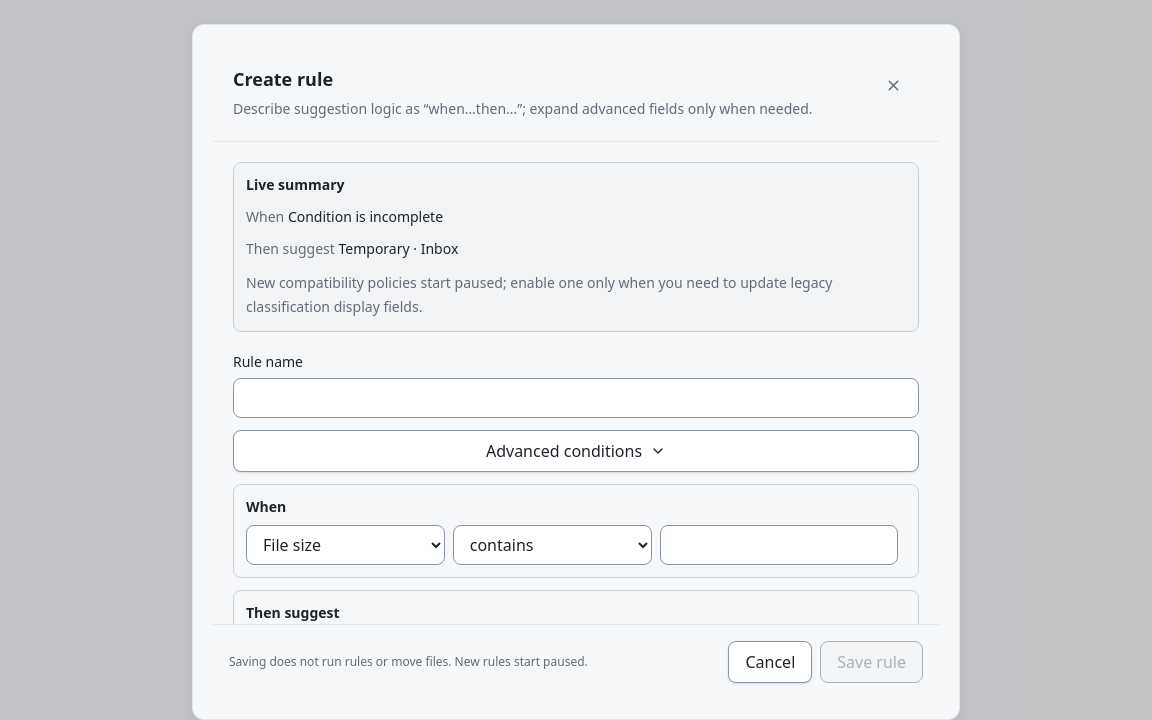
it: automation workspace behavior › uses one condition draft with a field-compatible input matrix and auto-corrected operator
Select "File size" in the dropdown named "Field": [345, 545] box [246,525,445,565]
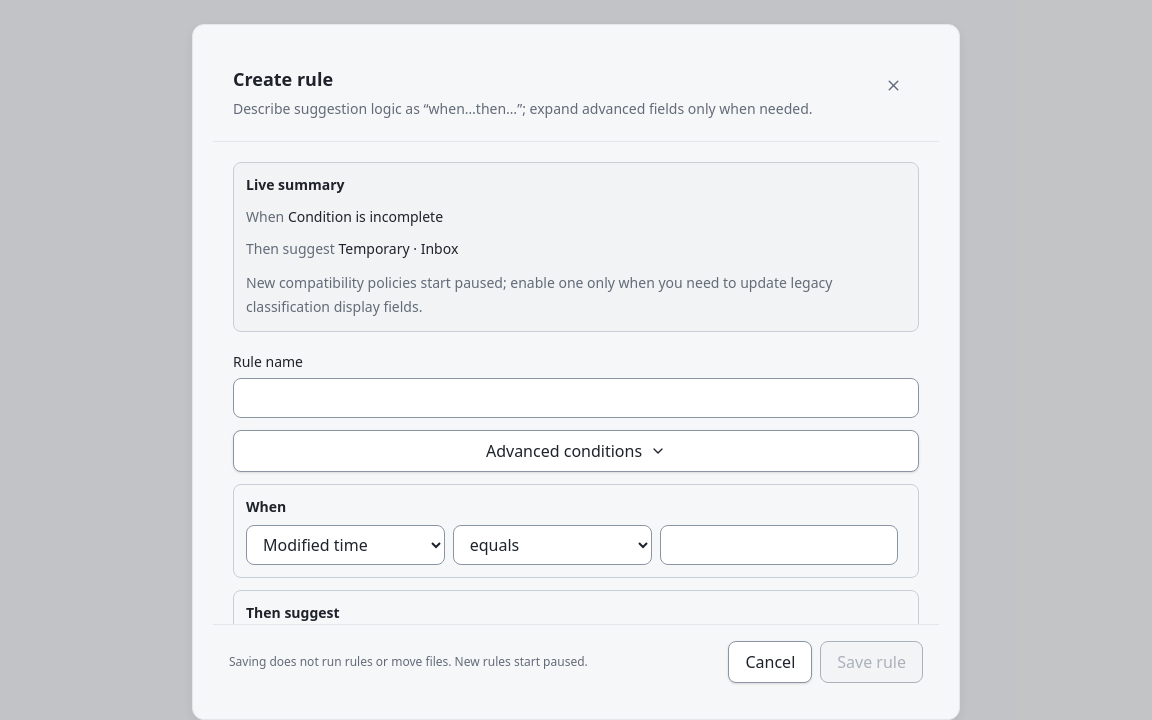
Expected: the number field named "Value" is shown, [660,525,898,565]
Result: the dropdown named "Operator" shows "equals" at [453,525,652,565]
Select "Modified time" in the dropdown named "Field": [345, 545] box [246,525,445,565]
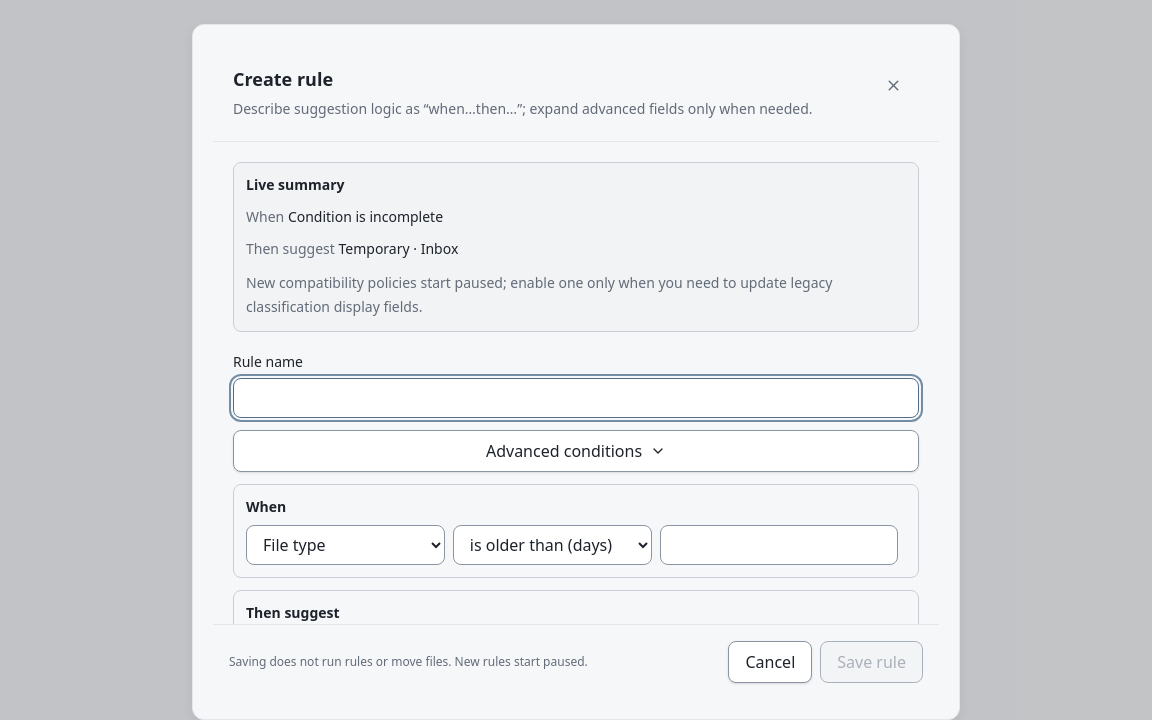
Expected: the number field named "Value" is shown, [660,525,898,565]
Result: the dropdown named "Operator" shows "is older than (days)" at [453,525,652,565]
Select "File type" in the dropdown named "Field": [345, 545] box [246,525,445,565]
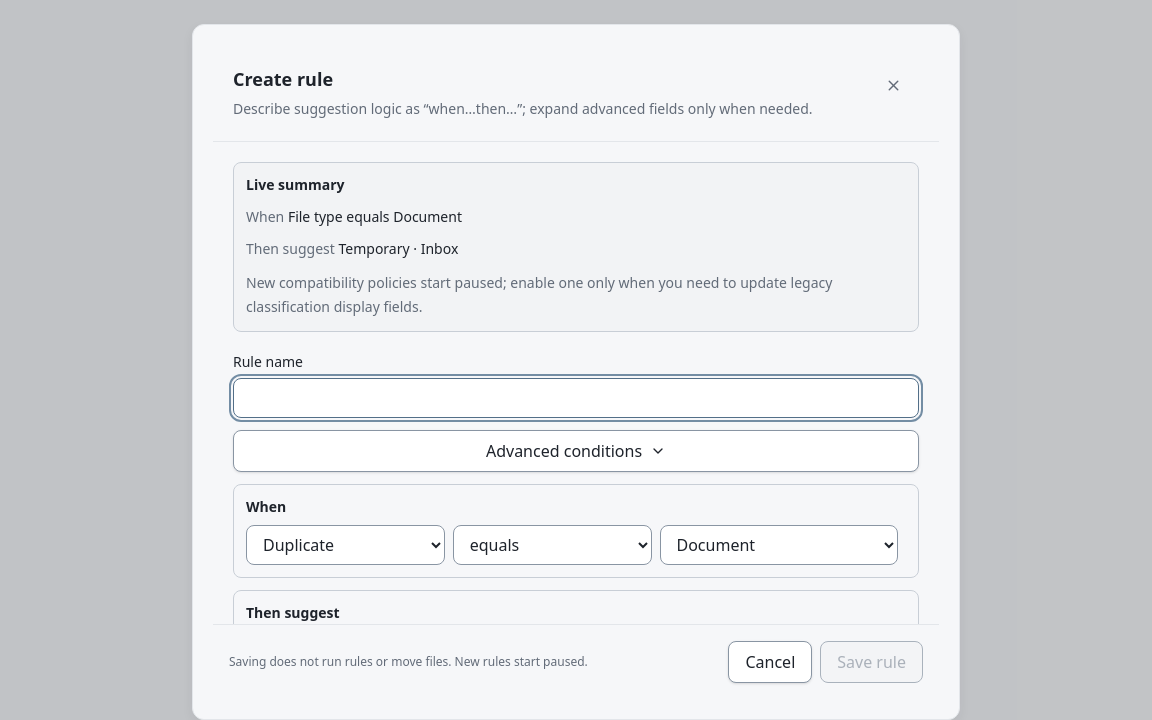
Result: the dropdown named "Value" is shown at [660,525,898,565]
Select "Duplicate" in the dropdown named "Field": [345, 545] box [246,525,445,565]
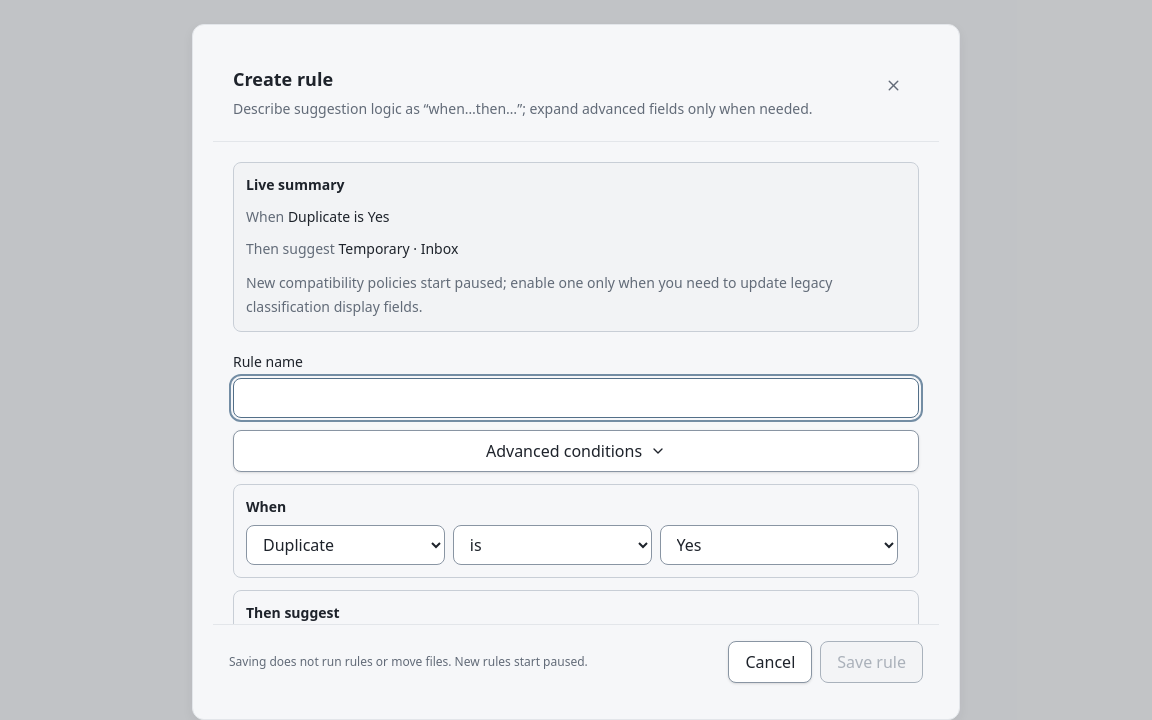
Result: the dropdown named "Operator" shows "is" at [453,525,652,565]
